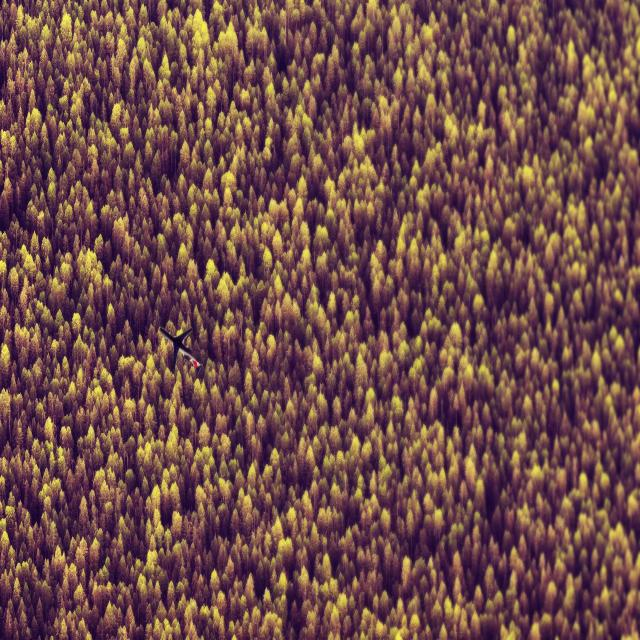airplane: (158, 325, 202, 373)
